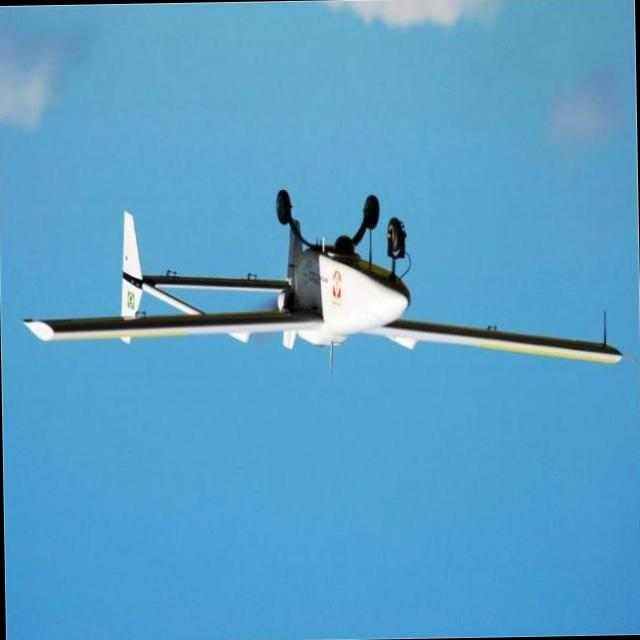UAV: (42, 190, 573, 396)
